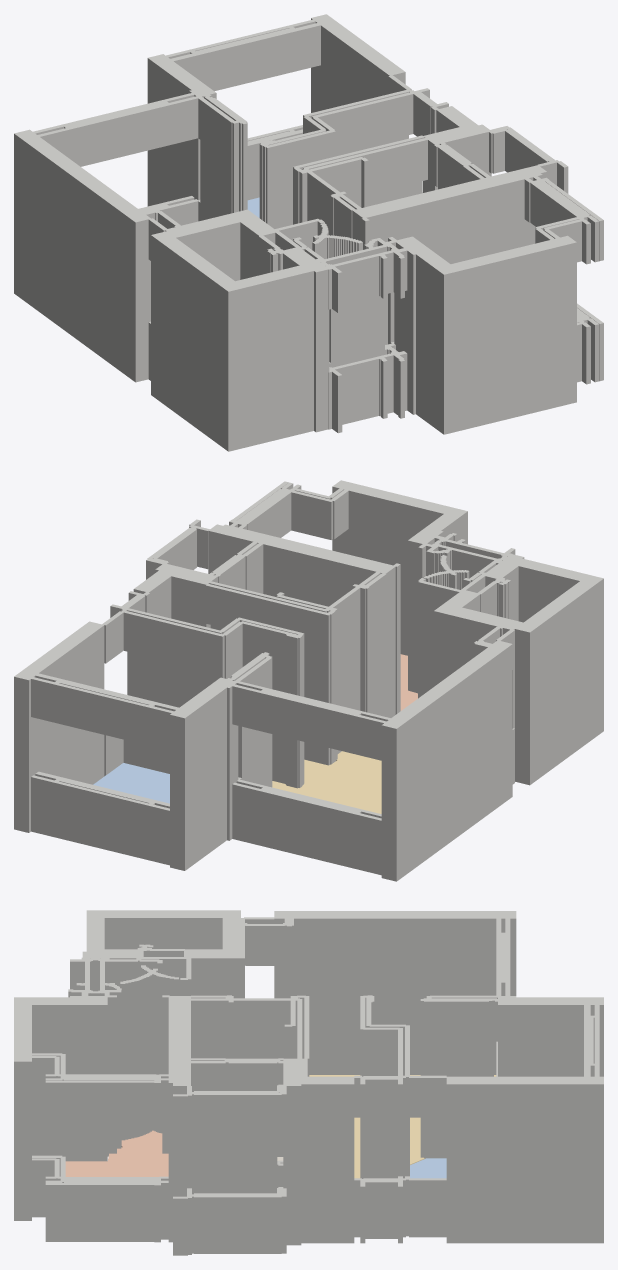
3 views of the same model, one above another, from view 1: azimuth 30°, elevation 25°; view 2: azimuth 150°, elevation 25°; view 3: azimuth 270°, elevation 25° (orthographic). The views are drawn at different scales.
Visible parts, largest first — view 1: walls; view 2: walls, room:living:1, room:bedroom:0, room:kitchen:5; view 3: walls, room:kitchen:5, room:living:1, room:bedroom:0.
Part boxes in pixels (<box>): walls: <box>14,14,603,451</box>; walls: <box>14,480,603,881</box>; room:living:1: <box>272,751,381,813</box>; room:bedroom:0: <box>93,763,169,803</box>; room:kitchen:5: <box>400,654,417,710</box>; walls: <box>14,910,603,1255</box>; room:kitchen:5: <box>65,1130,168,1176</box>; room:living:1: <box>309,1075,496,1178</box>; room:bedroom:0: <box>410,1158,446,1178</box>.
Bounding box in the file's own units: 7.02 × 2.8 × 9.4.
